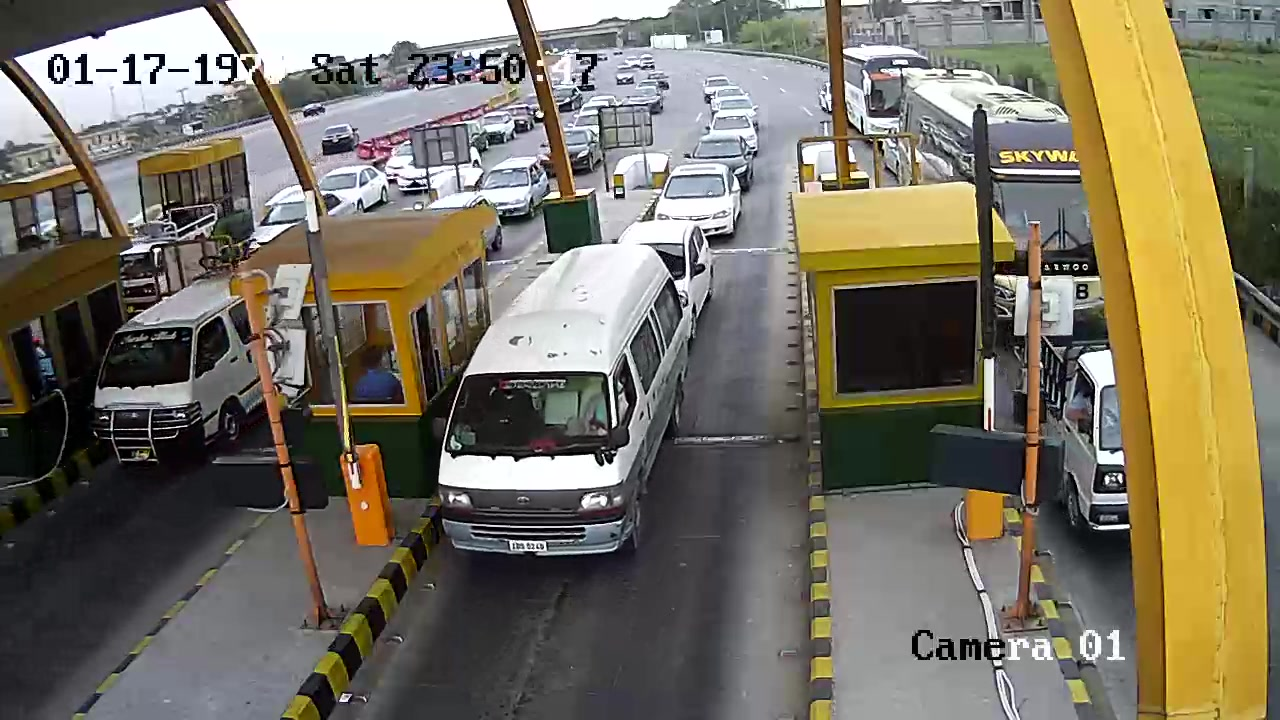F3: (438, 235, 686, 566)
